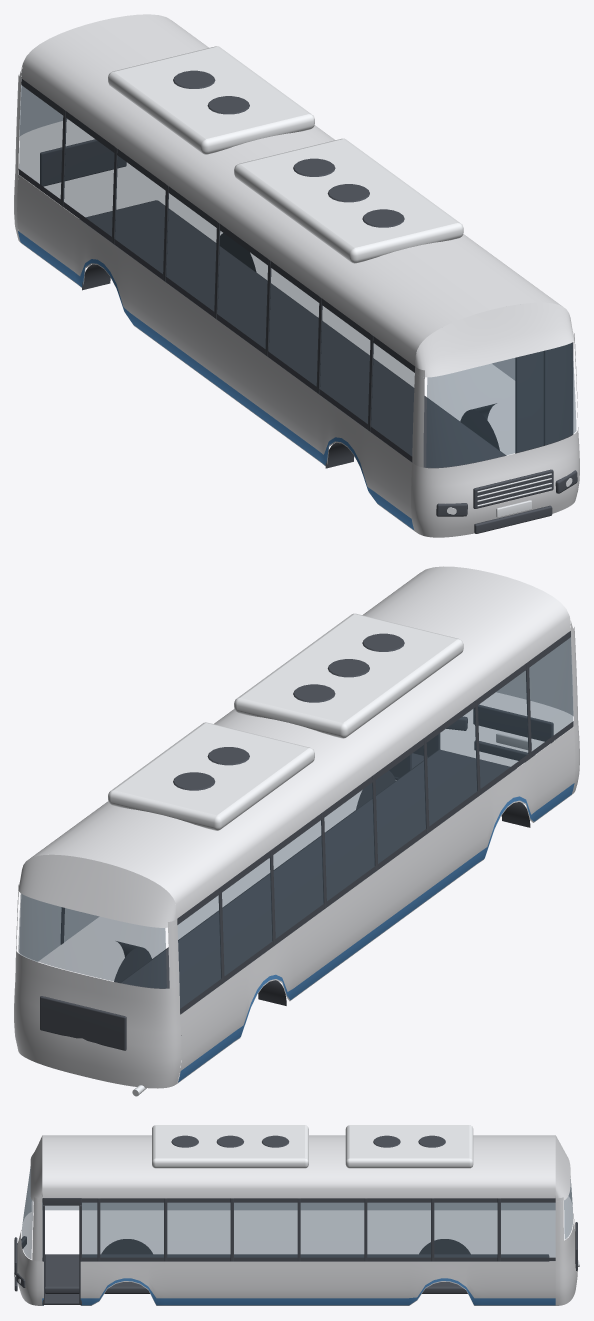
File: bus_ai.glb
3 views of the same model, one above another, from view 1: azimuth 30°, elevation 25°; view 2: azimuth 150°, elevation 25°; view 3: azimuth 270°, elevation 25° (orthographic). The views are drawn at different scales.
Parts seen in each view (by area): view 1: PaintShell, DarkTrim, CabinGlass, RoofPod, AccentShell, ChromeTrim; view 2: PaintShell, CabinGlass, DarkTrim, RoofPod, AccentShell; view 3: PaintShell, CabinGlass, DarkTrim, RoofPod, AccentShell.
Part boxes in pixels (x1=…): PaintShell: x1=14, y1=14, x2=579, y2=537; DarkTrim: x1=18, y1=70, x2=577, y2=533; CabinGlass: x1=19, y1=85, x2=576, y2=467; RoofPod: x1=108, y1=46, x2=463, y2=263; AccentShell: x1=18, y1=231, x2=413, y2=529; ChromeTrim: x1=447, y1=473, x2=572, y2=517; PaintShell: x1=14, y1=566, x2=579, y2=1088; CabinGlass: x1=18, y1=637, x2=573, y2=1008; DarkTrim: x1=40, y1=631, x2=573, y2=1050; RoofPod: x1=108, y1=613, x2=463, y2=830; AccentShell: x1=178, y1=783, x2=574, y2=1082; PaintShell: x1=17, y1=1135, x2=578, y2=1305; CabinGlass: x1=22, y1=1167, x2=572, y2=1258; DarkTrim: x1=14, y1=1135, x2=577, y2=1304; RoofPod: x1=152, y1=1125, x2=473, y2=1168; AccentShell: x1=42, y1=1278, x2=555, y2=1305.
Size of the model in its own units: 2.55 by 3.21 by 11.53.
